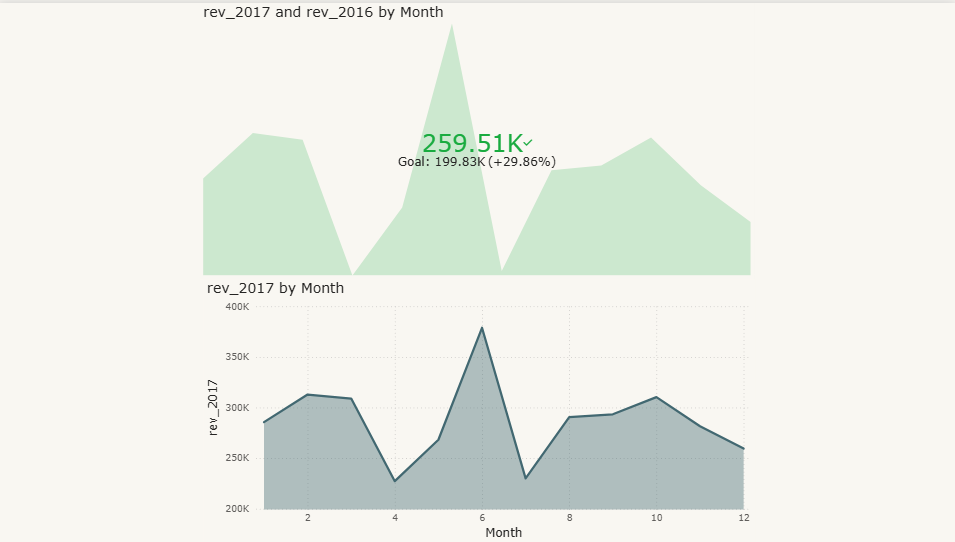

The page's visual inventory and layout, read from the dashboard file:
{"tool":"powerbi","page":{"name":"Page 3","canvas":[1280,720],"ordinal":2},"visuals":[{"type":"kpi","fields":{"Indicator":["Table.rev_2017"],"Goal":["Table.rev_2016"],"TrendLine":["orders_id.Month"]},"box":[270,0,740,368.6],"z":0},{"type":"areaChart","fields":{"Category":["orders_id.Month"],"Y":["Table.rev_2017"]},"box":[274.3,368.6,735.7,351.4],"z":1000}]}

Visuals, with their boxes in screenshot pixels (x1, y1, x2, y2), scaled from the page's 1280x720 canvas onto the 955x542 screenshot:
kpi - Table.rev_2017 x Table.rev_2016: 201/0/754/277
areaChart - orders_id.Month x Table.rev_2017: 205/277/754/541
